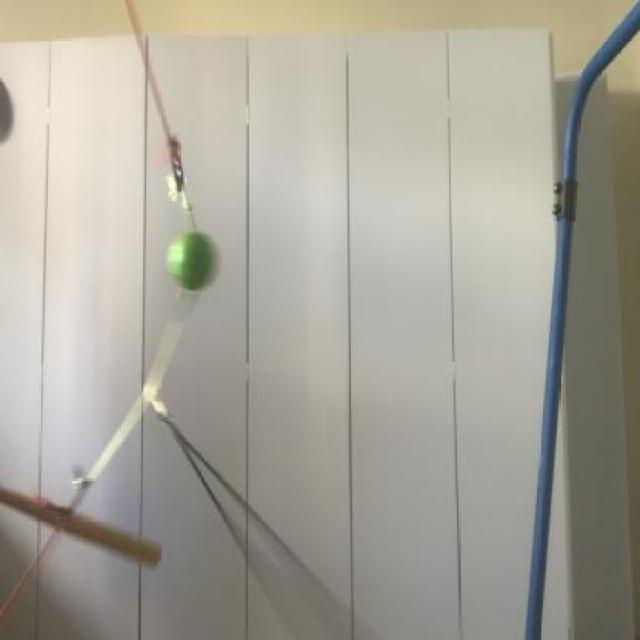baseball: (161, 222, 230, 308)
